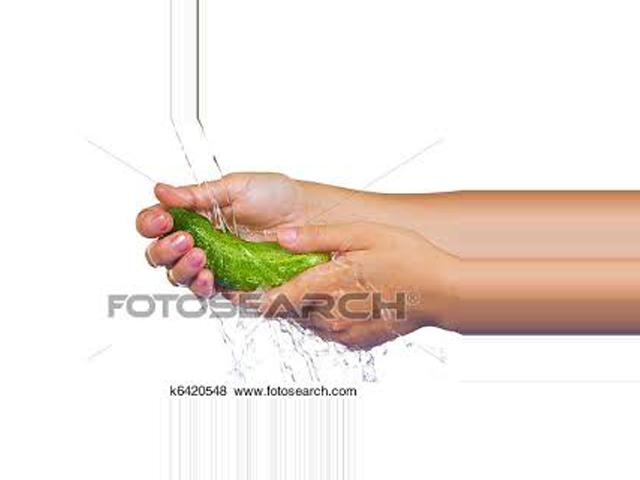cucumber: (166, 207, 335, 294)
